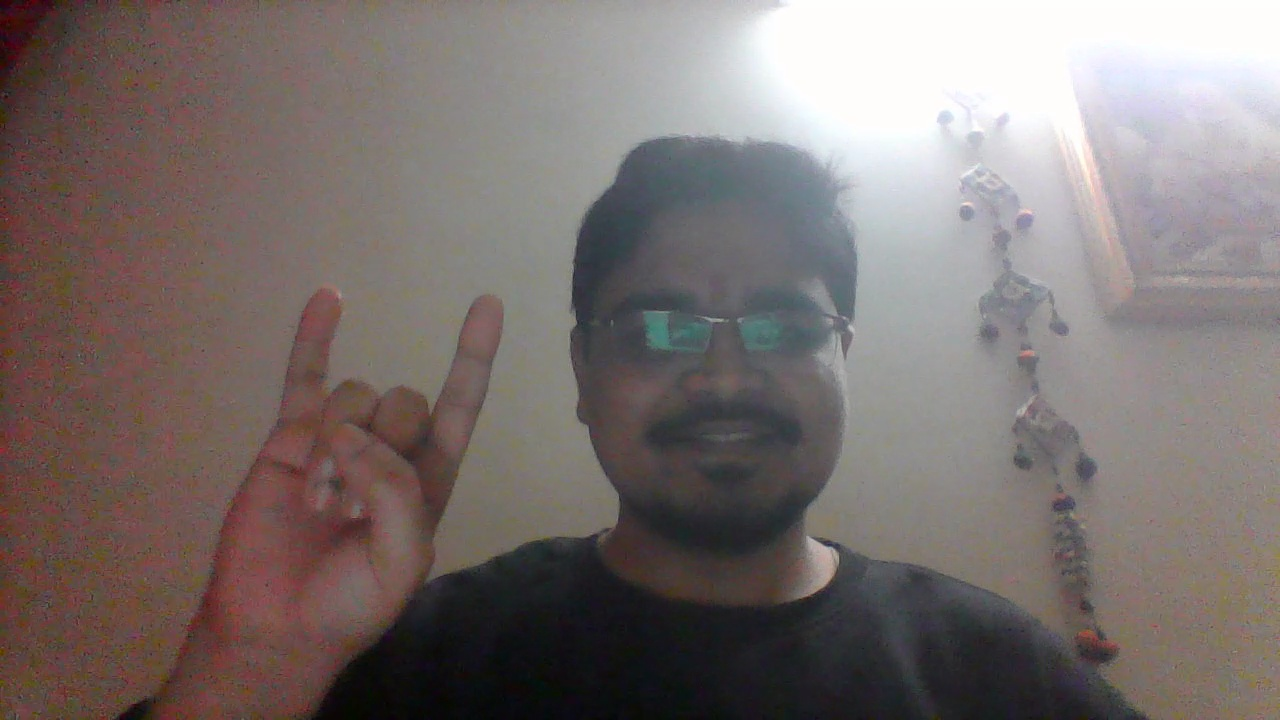ILoveYou: (199, 286, 507, 658)
